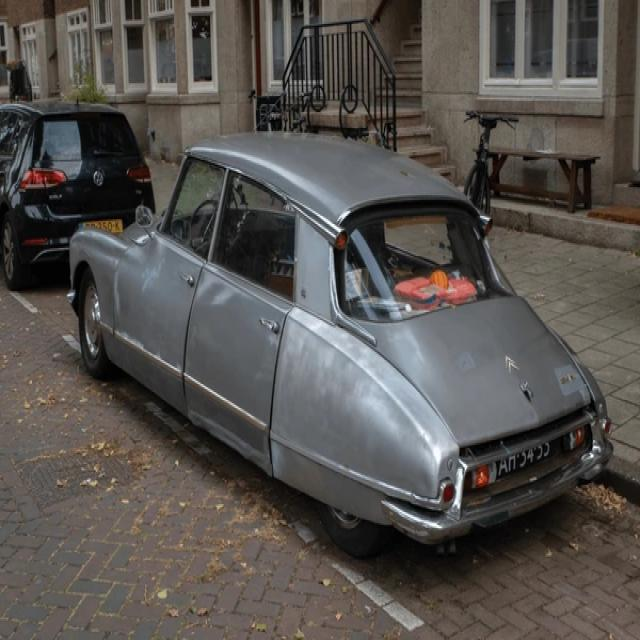citroen: (503, 352, 518, 375)
